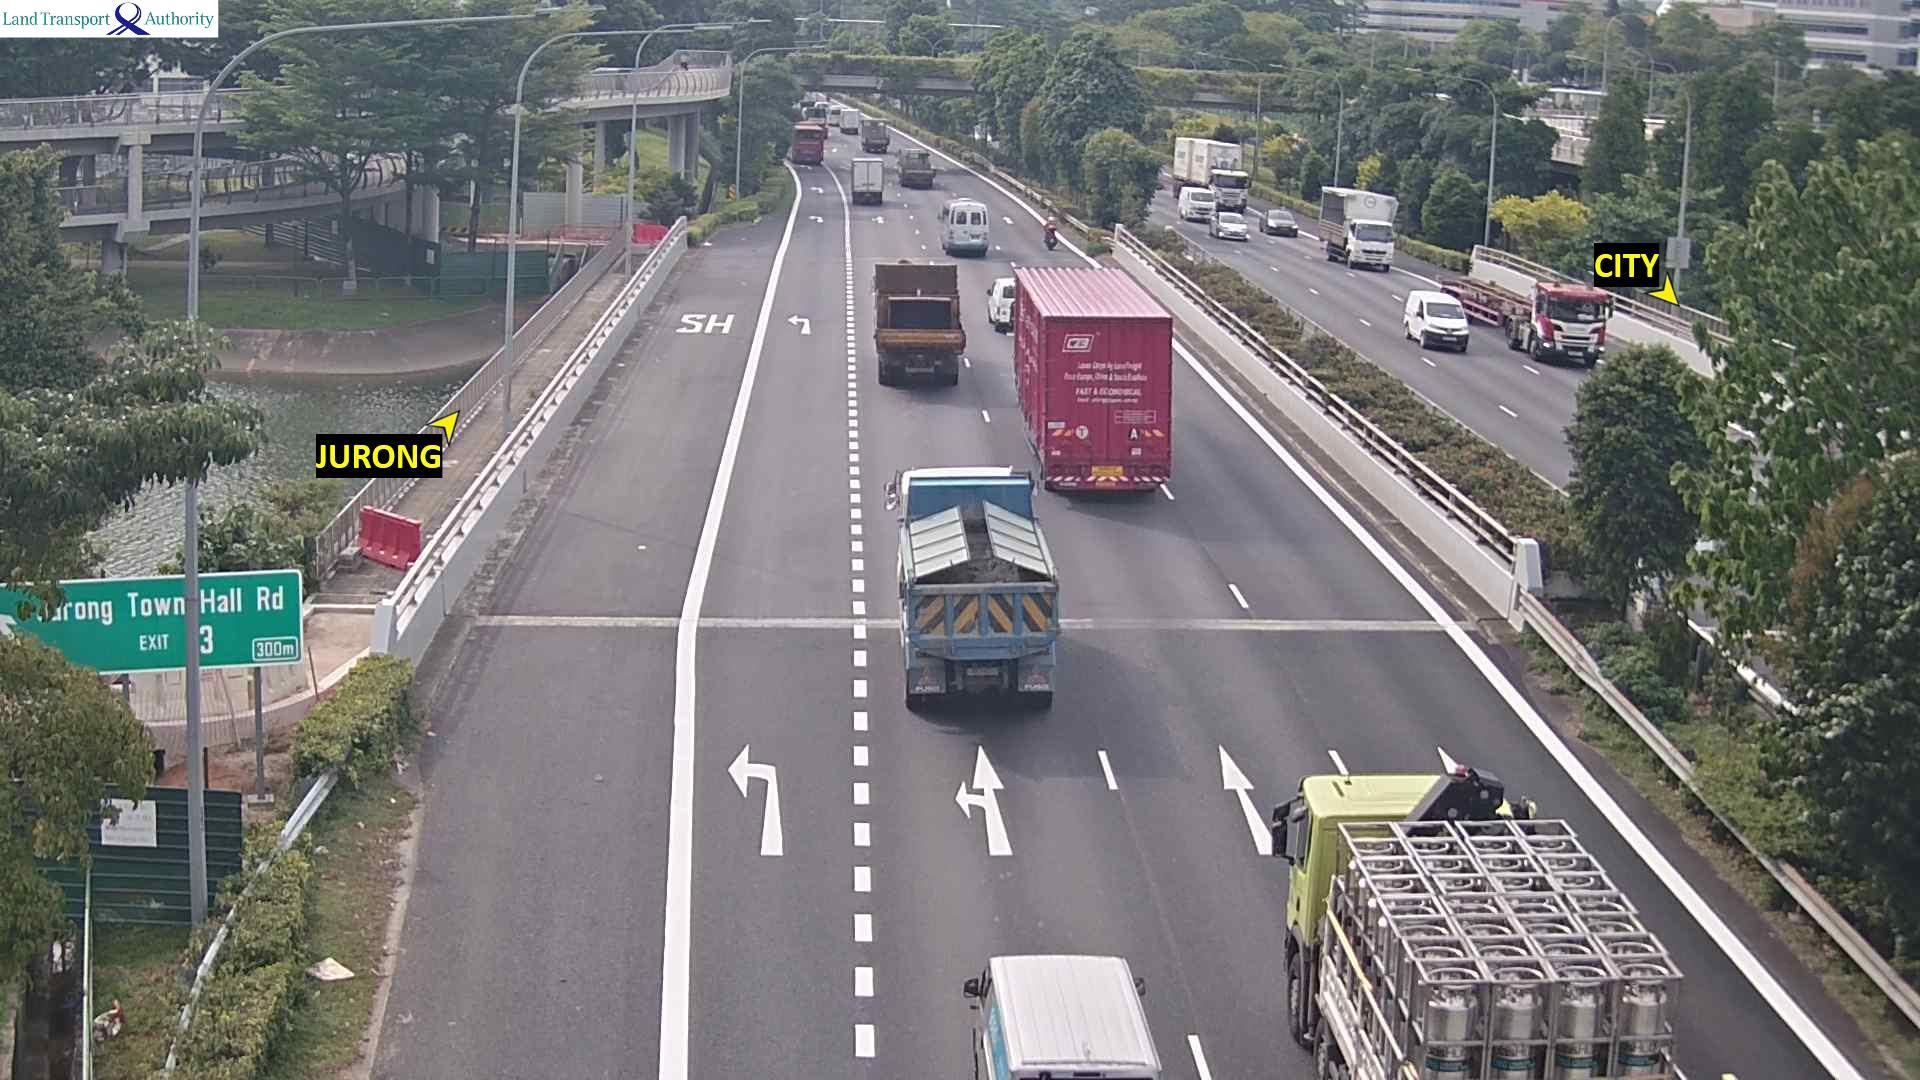incoming: (1538, 286, 1614, 372), (1407, 291, 1477, 353), (1349, 219, 1399, 274), (1208, 171, 1254, 216), (1212, 211, 1253, 244), (1182, 190, 1220, 223), (1263, 208, 1303, 237)
